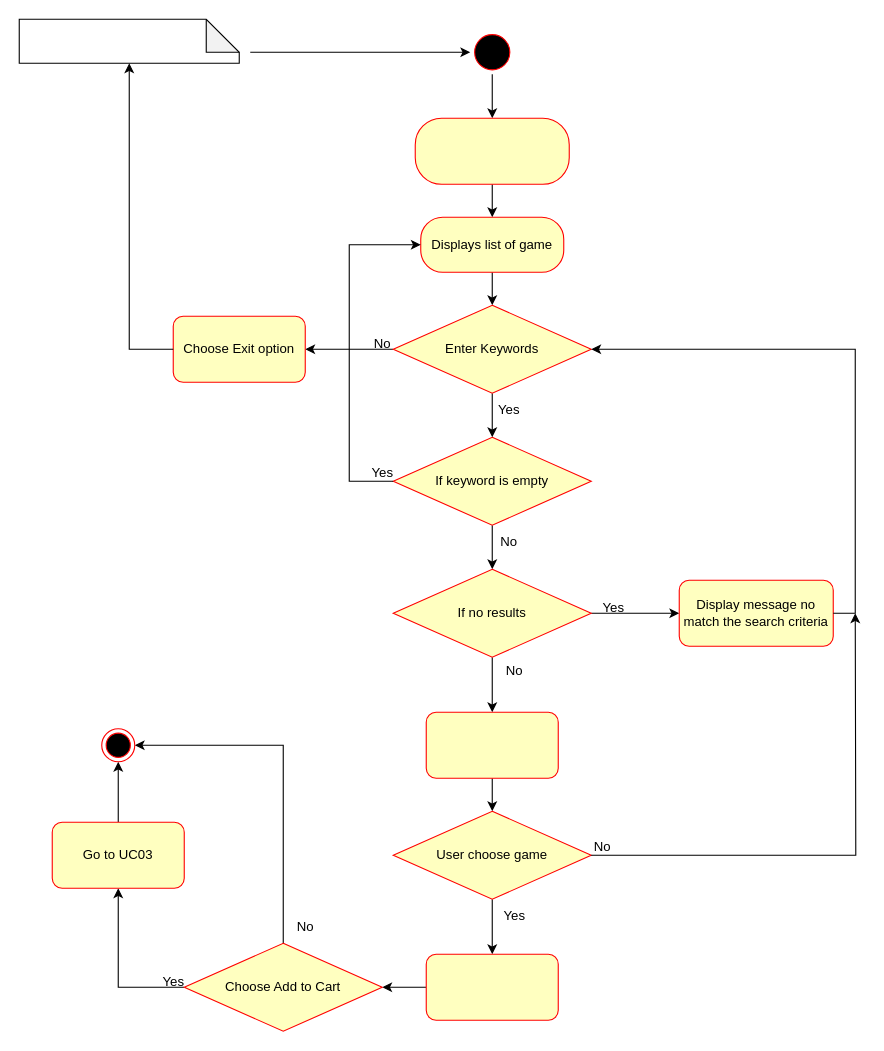
This 884x1051 diagram has some shape labels left out. The shapes that lost their labels are listed below. From the top down, each one's centre as x and y in pixels, then its label:
At (128,40): "Users are in Main Menu".
At (491,150): "Choose Search game option".
At (491,744): "Display the search results".
At (491,986): "Display details game".
